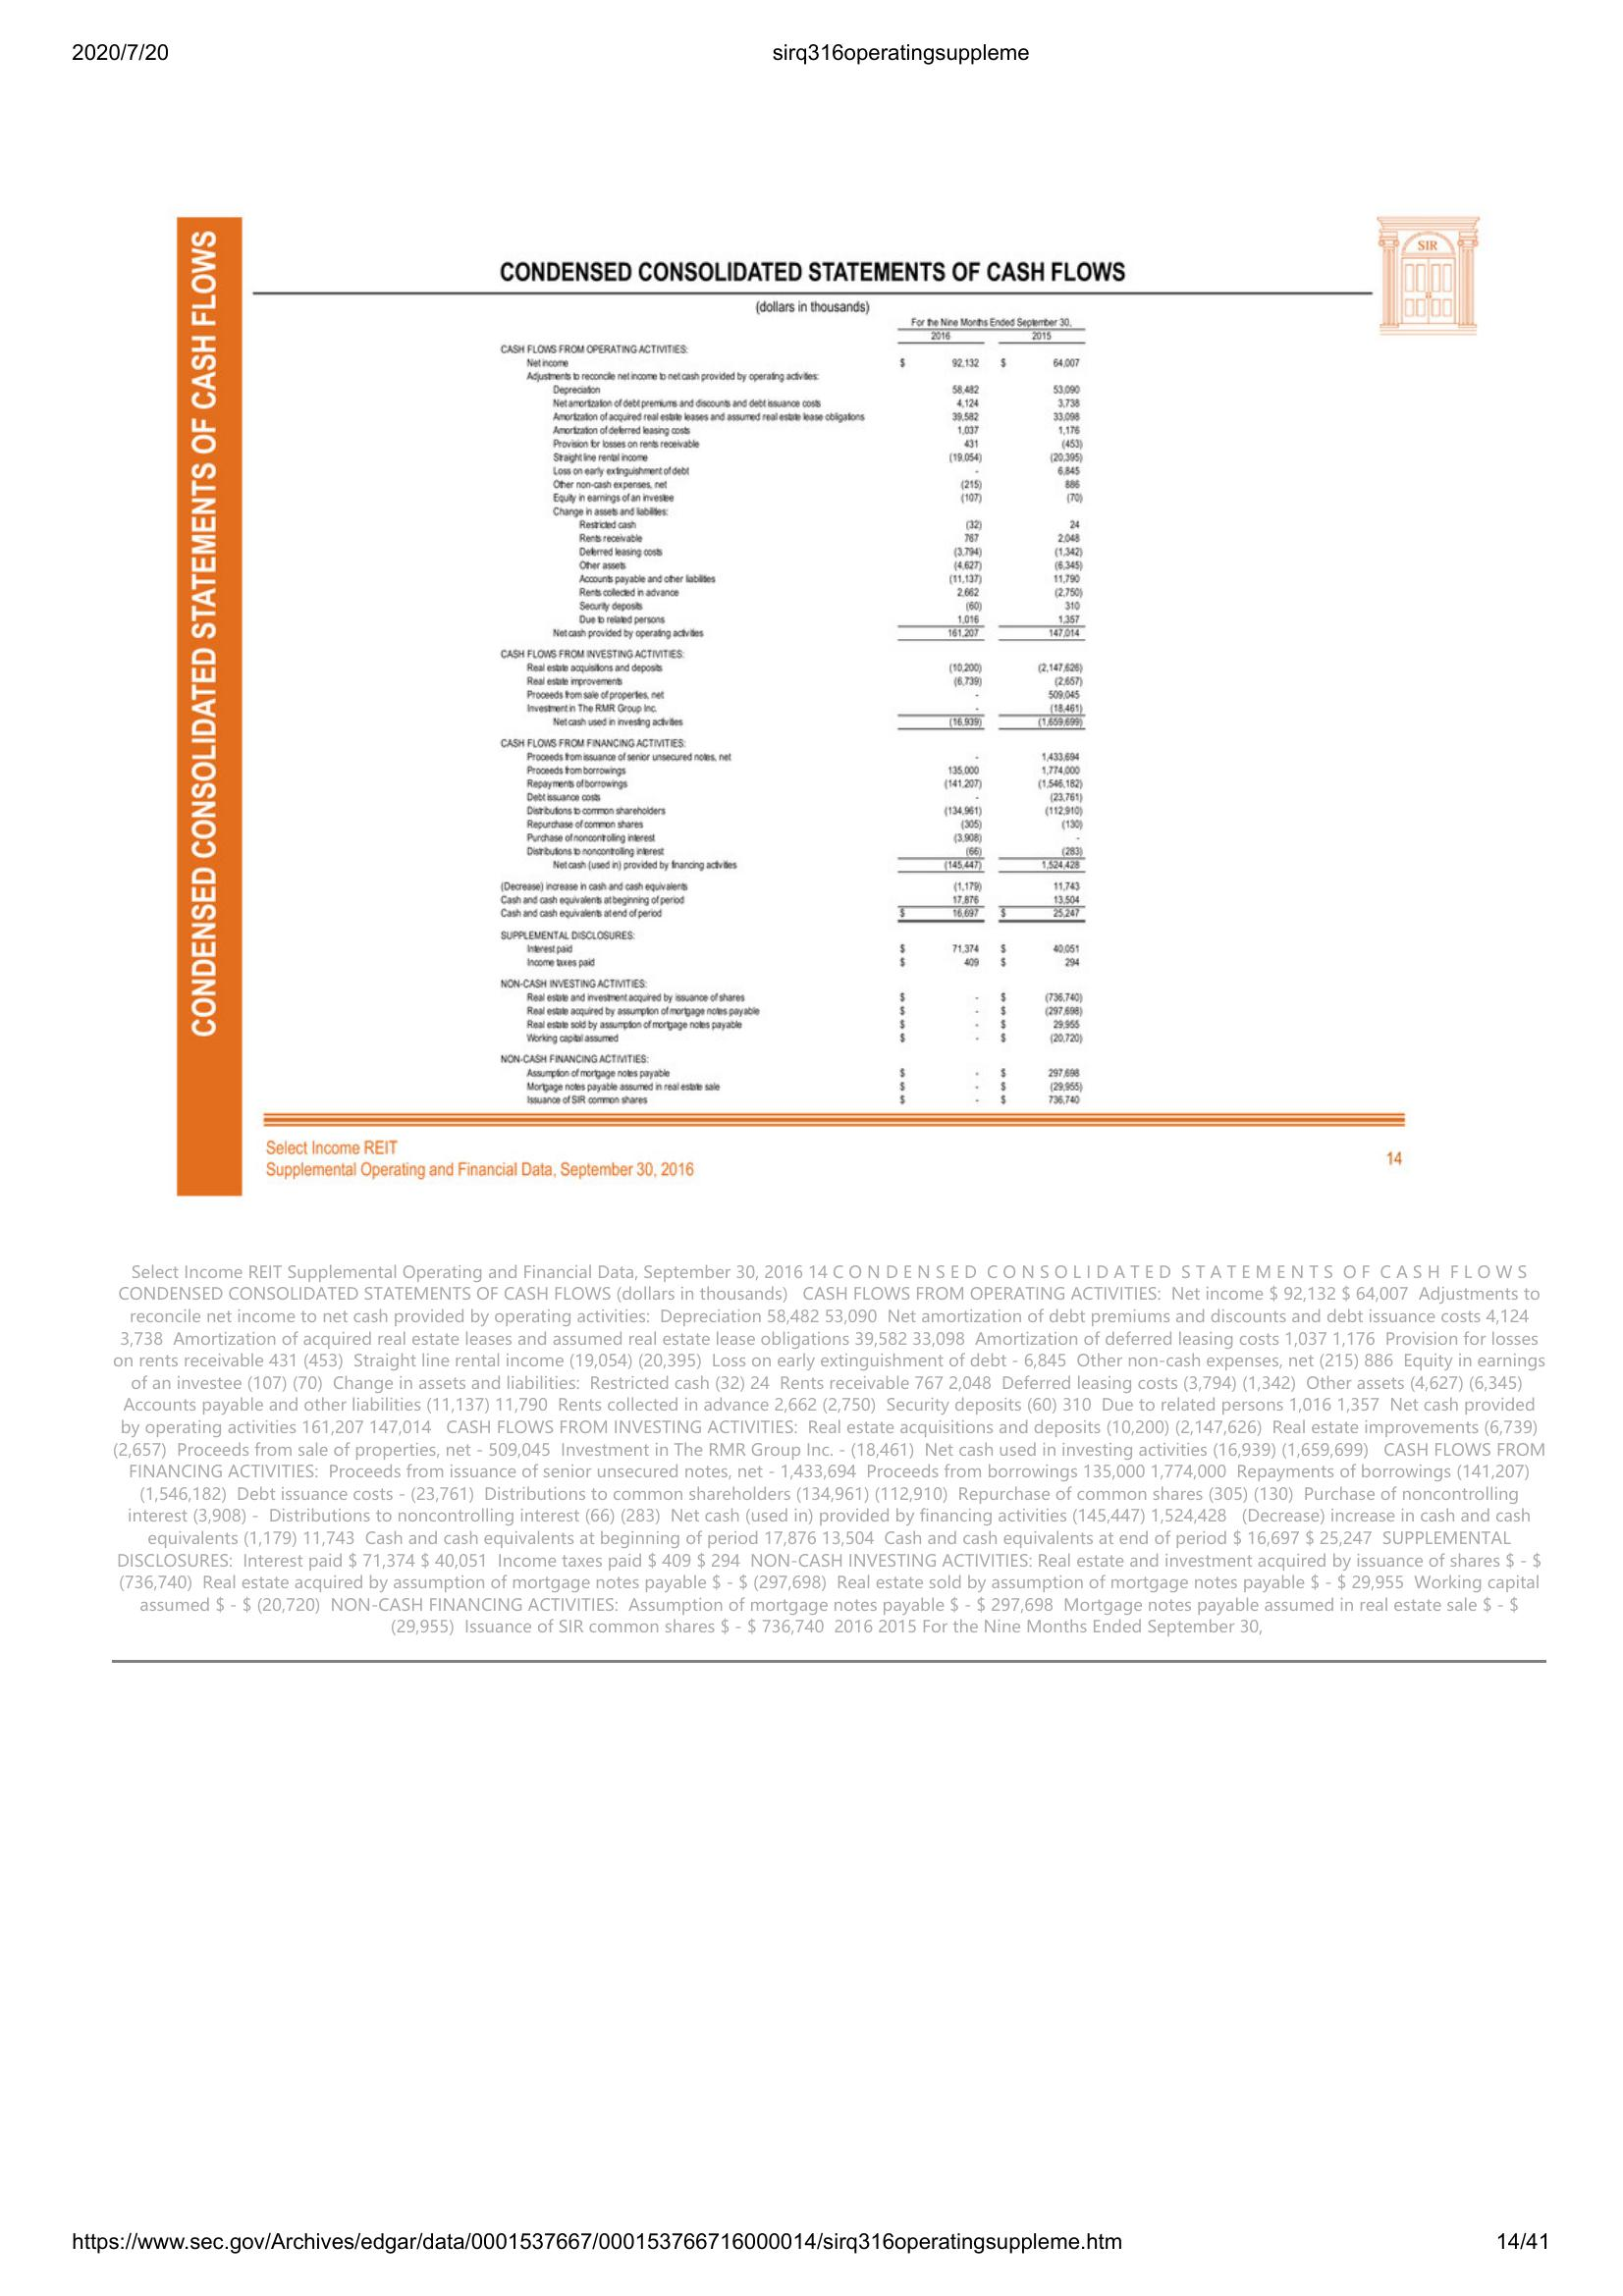table: (481, 309, 1094, 1120)
